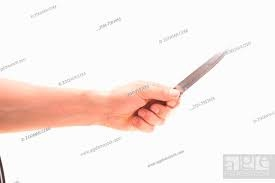knife: (159, 50, 227, 103)
